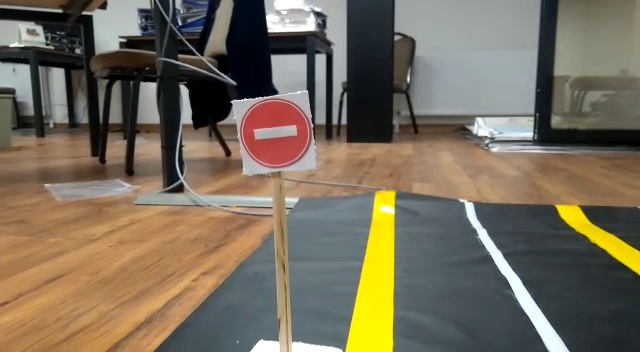girisi_olmayan_yol: (231, 91, 316, 167)
